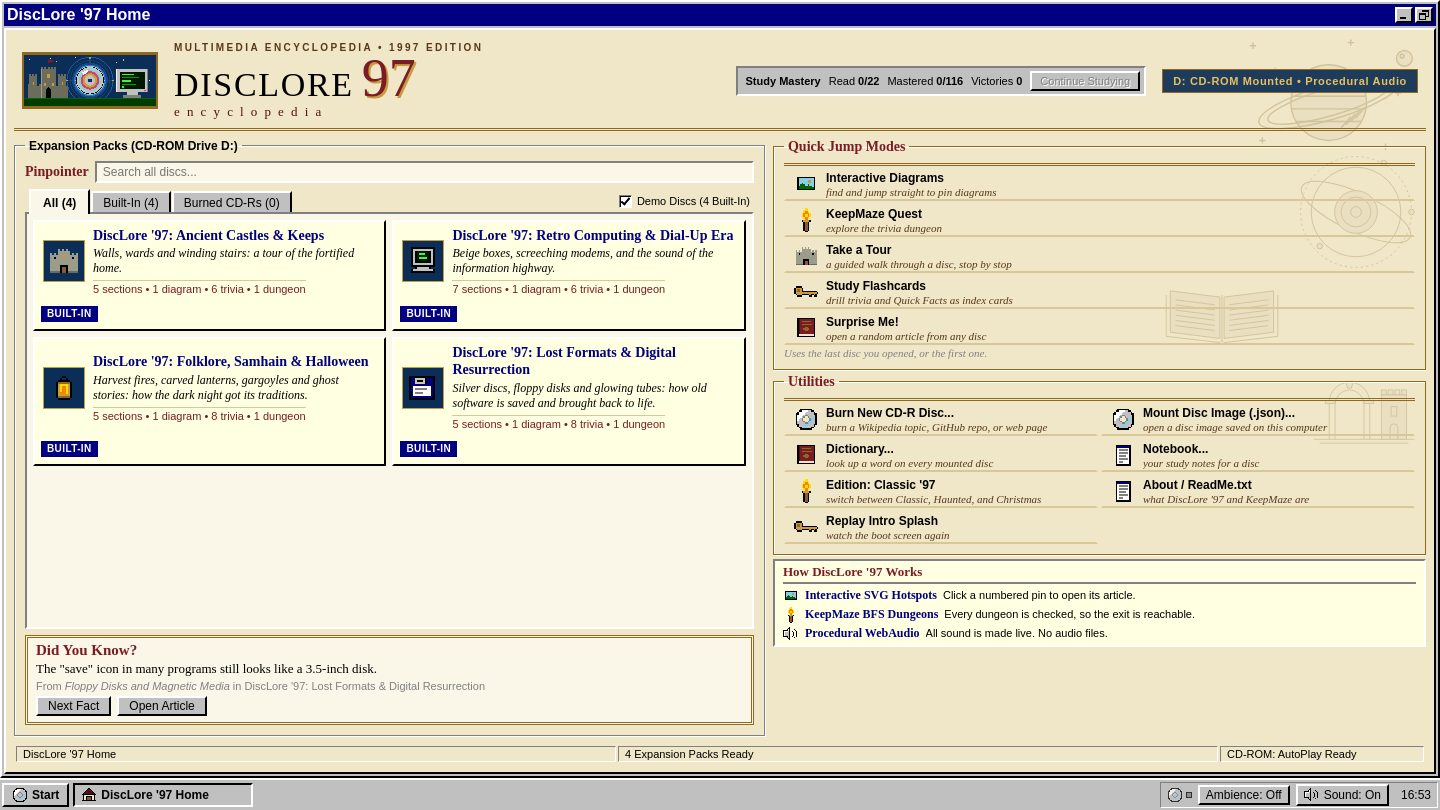
Test: sample burns on the empty Burned CD-Rs tab › in the app, a sample button opens the Burn dialog and burns that topic at once
What coordinates should you click on to do the following:
click the tab "Burned CD-Rs (0)"
I would click on:
 (232, 201)
Its box is top-left (172, 191), bottom-right (292, 212).
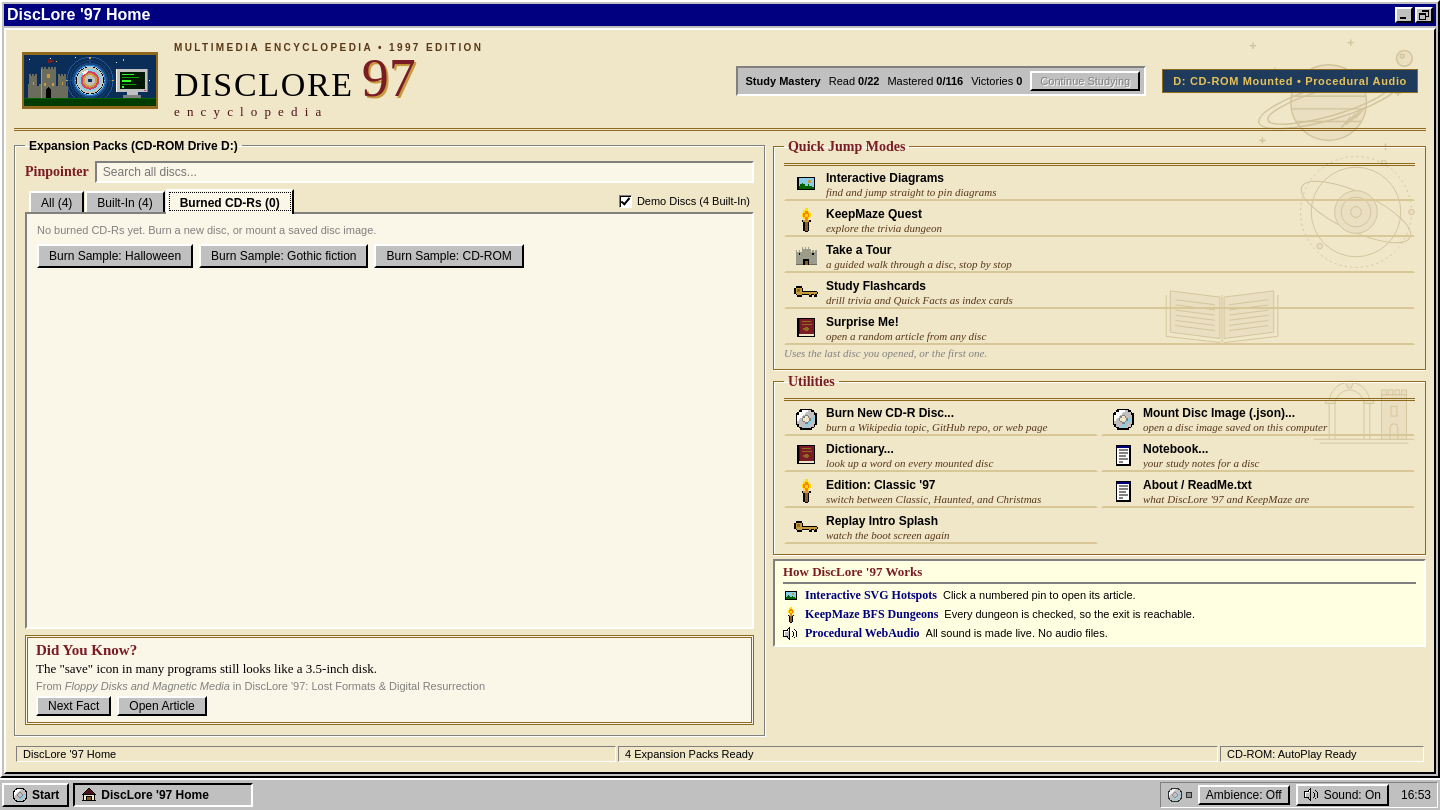
What coordinates should you click on to do the following:
click the button "Burn Sample: Halloween"
I would click on:
 (115, 256)
Its box is top-left (37, 244), bottom-right (193, 268).
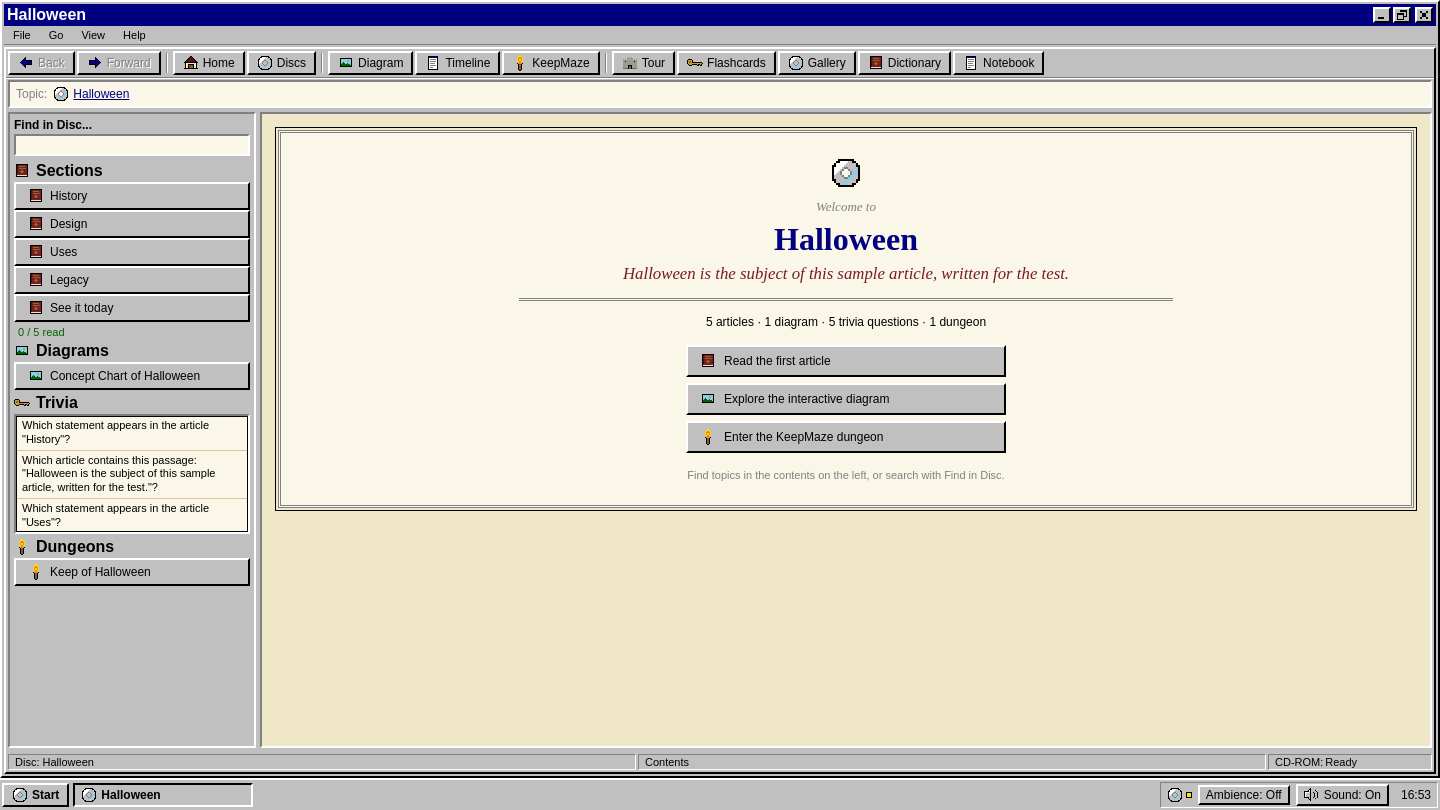
Expected: the dialog "Halloween" is shown
Expected: the button "Burn New CD-R Disc..." is gone
